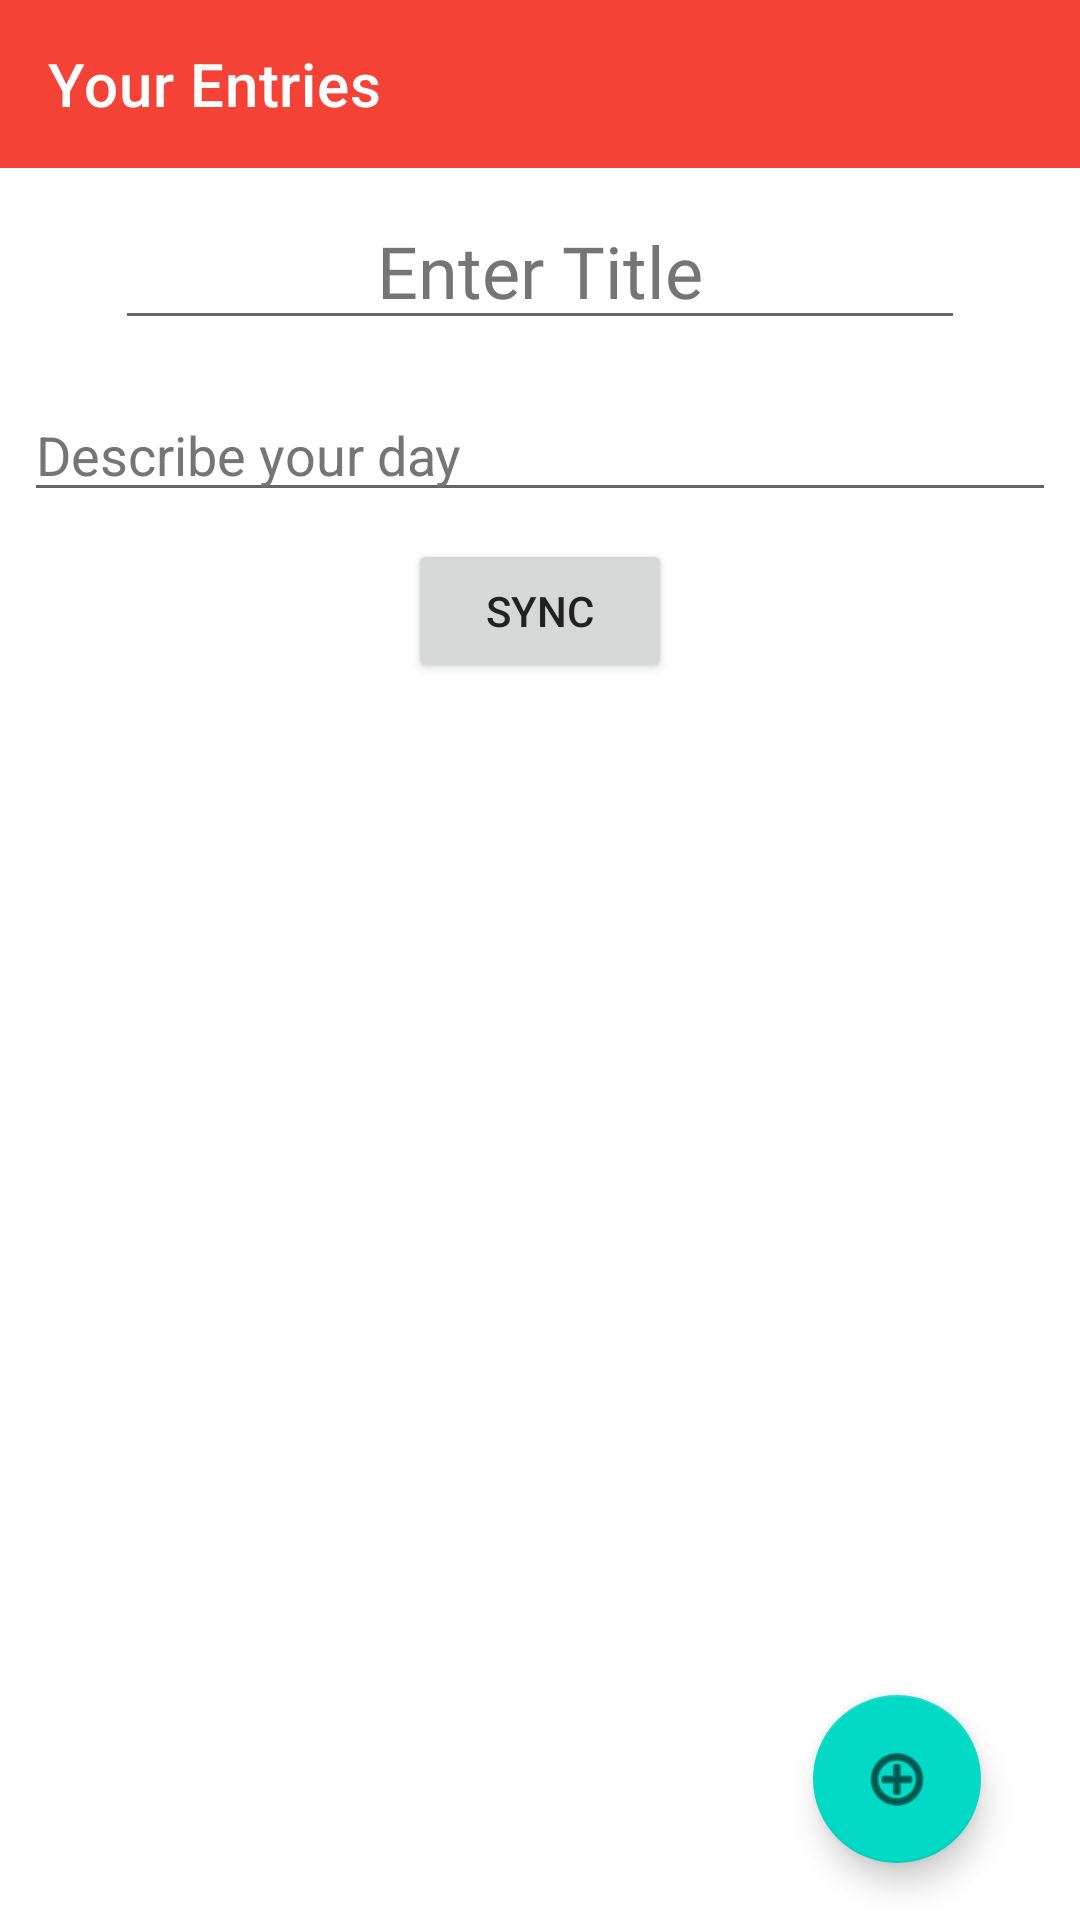

Point at icon controls on the screen. Image size 1080×1920, points as [x,y].
add: [897,1779]
